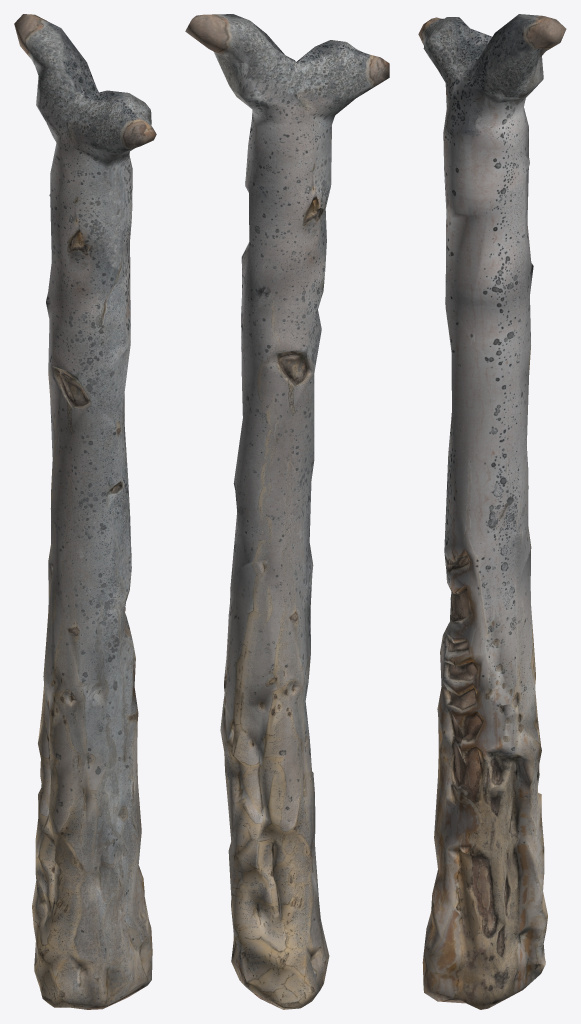
The model's file is dead_quiver_trunk.glb.
The picture shows the model from 3 angles, left to right: view 1: azimuth 90°, elevation 25°; view 2: azimuth 150°, elevation 25°; view 3: azimuth 270°, elevation 25°; orthographic projection. The views are drawn at different scales.
Parts seen in each view (by area): view 1: dead_quiver_trunk_LOD0; view 2: dead_quiver_trunk_LOD0; view 3: dead_quiver_trunk_LOD0.
Boxes of the visible parts, x1,y1,x2,y2 form: dead_quiver_trunk_LOD0: [14, 14, 156, 1009]; dead_quiver_trunk_LOD0: [185, 14, 389, 1009]; dead_quiver_trunk_LOD0: [418, 14, 566, 1009].
Bounding box in the file's own units: 0.3016 × 1.99 × 0.2676.
1 material, 1 textured.
